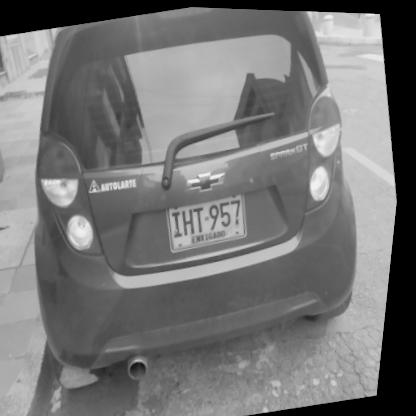placa: (163, 188, 260, 254)
